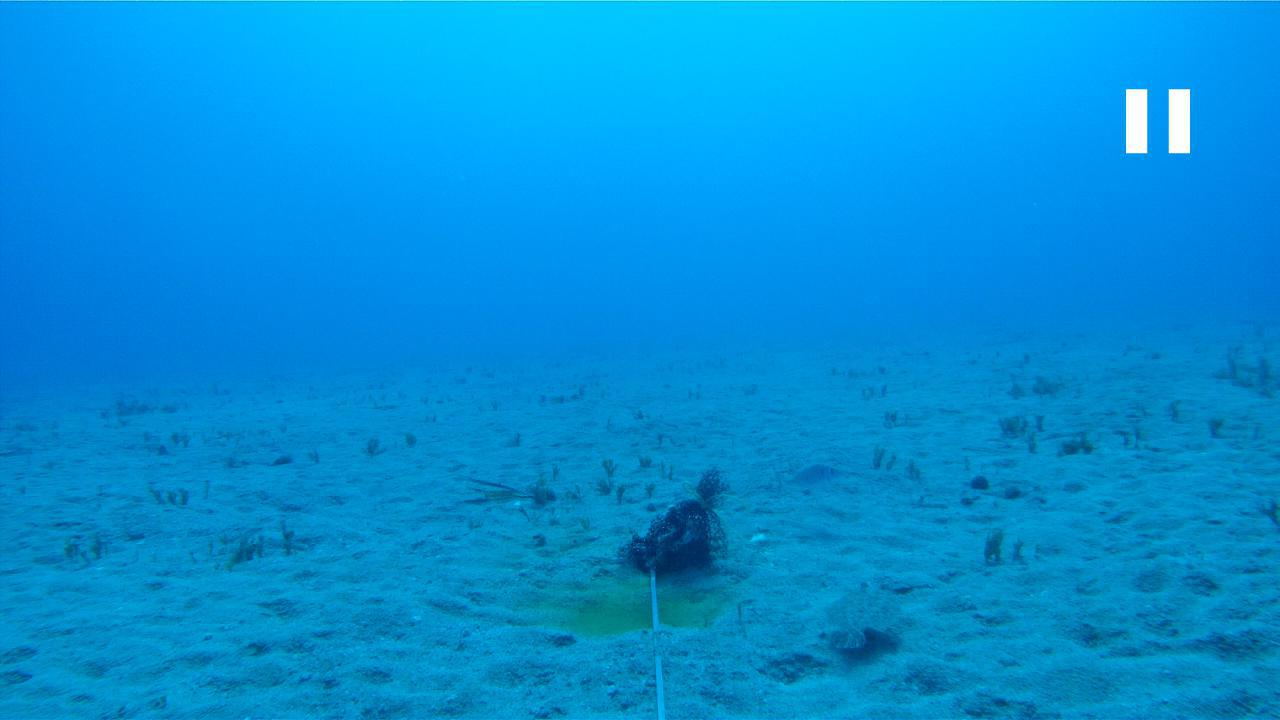bothus: (822, 577, 908, 657)
